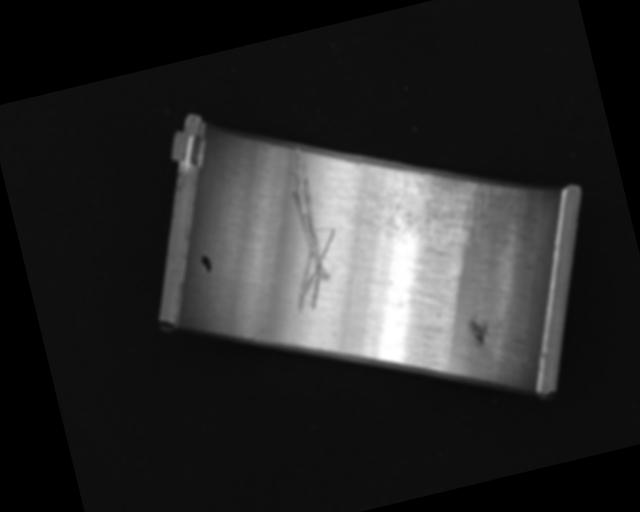blot: (199, 254, 214, 276)
bruise: (466, 314, 494, 349)
nick: (259, 142, 352, 314)
scratch: (361, 144, 517, 273)
